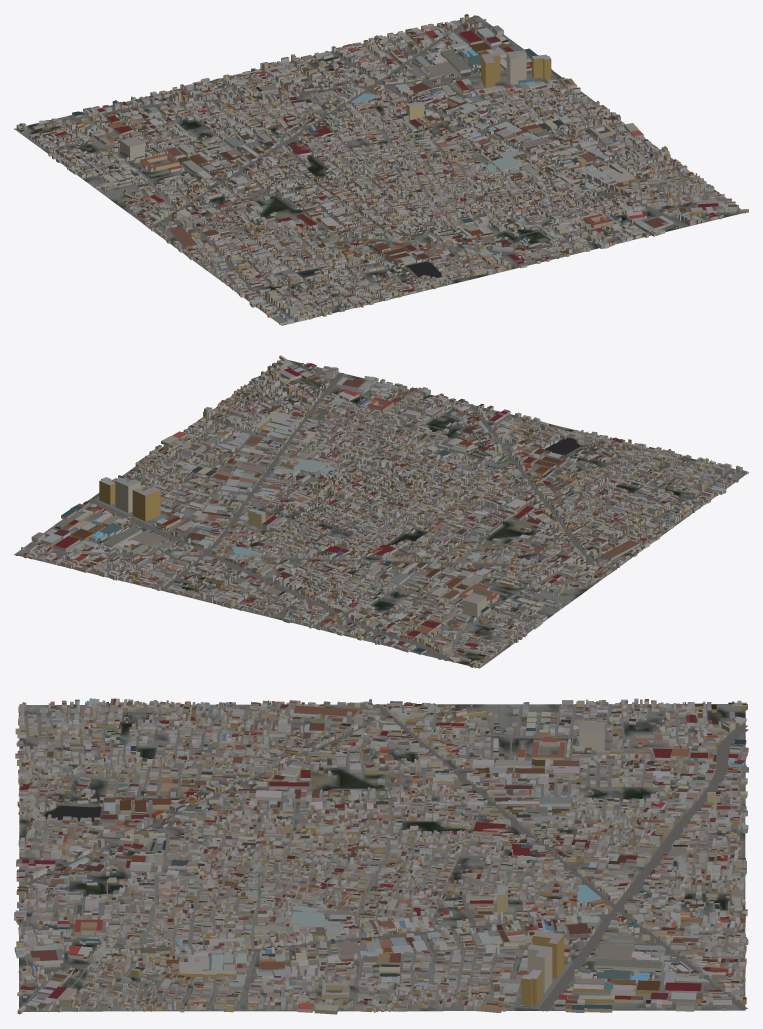
3 renders of one model, top to bottom at view 1: azimuth 30°, elevation 25°; view 2: azimuth 150°, elevation 25°; view 3: azimuth 270°, elevation 25°, orthographic. The views are drawn at different scales.
Visible parts, largest first — view 1: buildings, ground, roads; view 2: buildings, ground, roads; view 3: buildings, ground, roads, water.
Part boxes in pixels (box(x1,y1,x2,y2)): buildings: box(16, 14, 748, 324); ground: box(14, 15, 745, 324); roads: box(14, 15, 742, 325); buildings: box(21, 355, 748, 668); ground: box(14, 360, 748, 668); roads: box(15, 359, 745, 668); buildings: box(14, 698, 748, 1014); ground: box(19, 704, 745, 1011); roads: box(17, 704, 748, 1011); water: box(44, 806, 101, 821).
Bounding box in the file's own units: 1424 × 80.78 × 1417.
